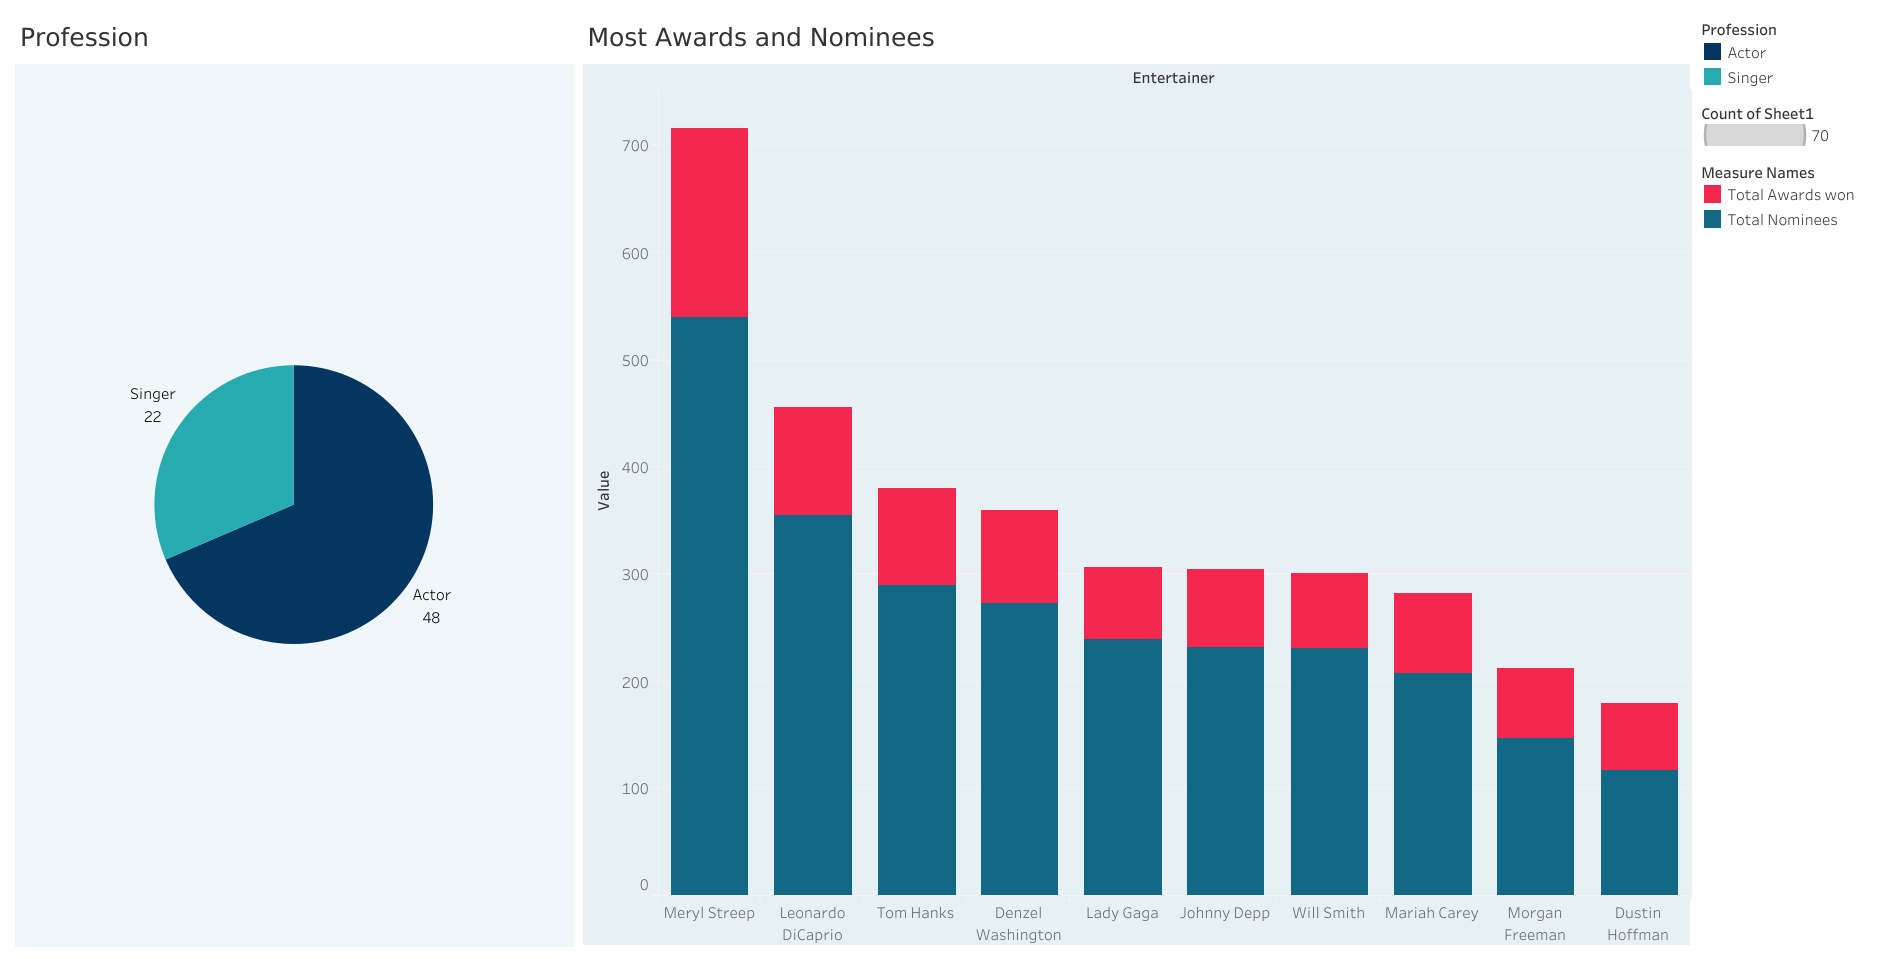

Layout of this report page (visuals, bound fields, positions):
{"tool":"tableau","page":{"name":"Dashboard 1","canvas":[1524,768],"ordinal":0},"visuals":[{"type":"worksheet","title":"Profession","mark":"Pie","box":[8,8,454,752]},{"type":"worksheet","title":"Most Awards and Nominees","mark":"Automatic","cols":["Entertainer"],"box":[462,8,894,752]},{"type":"legend","title":"Profession","param":"[federated.00bymi516ipdjf1fy40e70tkaaqx].[none:Profession:nk]","box":[1356,8,160,72]},{"type":"legend","title":"Profession","param":"[federated.00bymi516ipdjf1fy40e70tkaaqx].[__tableau_internal_object_id__].[cnt:S","box":[1356,80,160,51]},{"type":"legend","title":"Most Awards and Nominees","param":"[federated.00bymi516ipdjf1fy40e70tkaaqx].[:Measure Names]","box":[1356,131,160,72]}]}

Visuals, with their boxes in screenshot pixels (x1, y1, x2, y2), scaled from the page's 1524x768 canvas onto the 1904x959 screenshot:
"Profession" worksheet (Pie marks): [left=10, top=10, right=577, bottom=949]
"Most Awards and Nominees" worksheet: [left=577, top=10, right=1694, bottom=949]
"Profession" legend: [left=1694, top=10, right=1894, bottom=100]
"Profession" legend: [left=1694, top=100, right=1894, bottom=164]
"Most Awards and Nominees" legend: [left=1694, top=164, right=1894, bottom=253]
